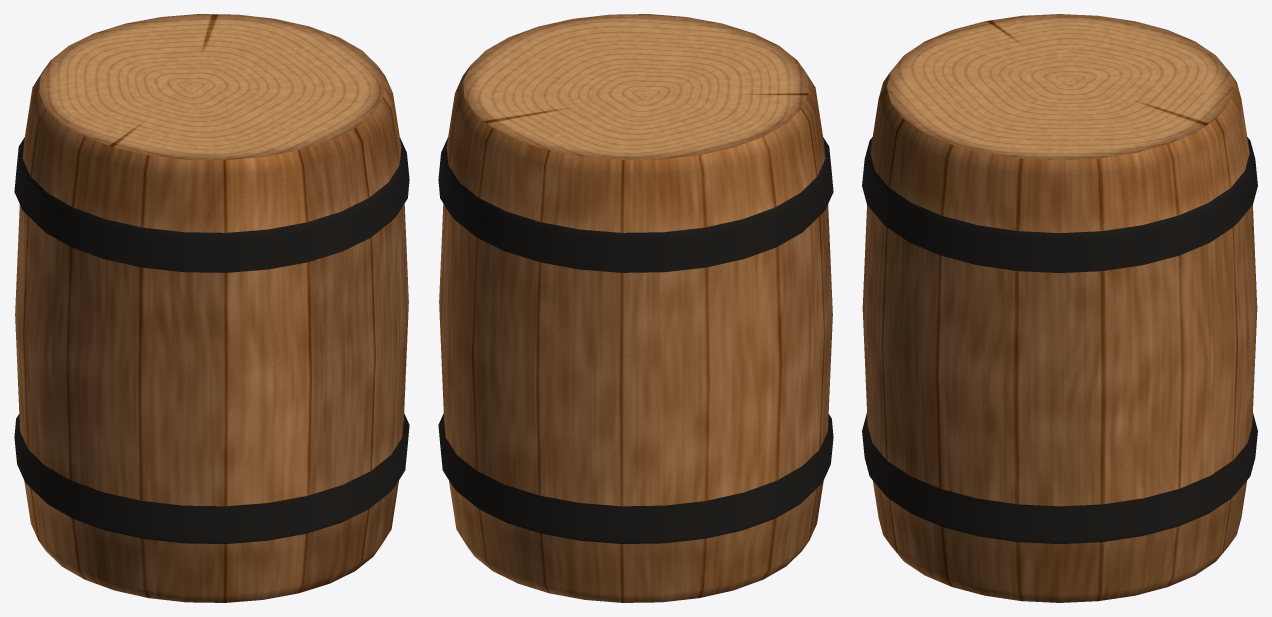
File: LogBarrel.obj
3 renders of one model, left to right at view 1: azimuth 30°, elevation 25°; view 2: azimuth 150°, elevation 25°; view 3: azimuth 270°, elevation 25°, orthographic.
Parts seen in each view (by area): view 1: LogBarrel; view 2: LogBarrel; view 3: LogBarrel.
Boxes of the visible parts, bbox=[...] form: LogBarrel: bbox=[14, 14, 409, 602]; LogBarrel: bbox=[438, 14, 833, 602]; LogBarrel: bbox=[862, 14, 1257, 602].
Bounding box in the file's own units: 1.2 × 1.48 × 1.2.
Materials: 3 (2 with a texture image).
